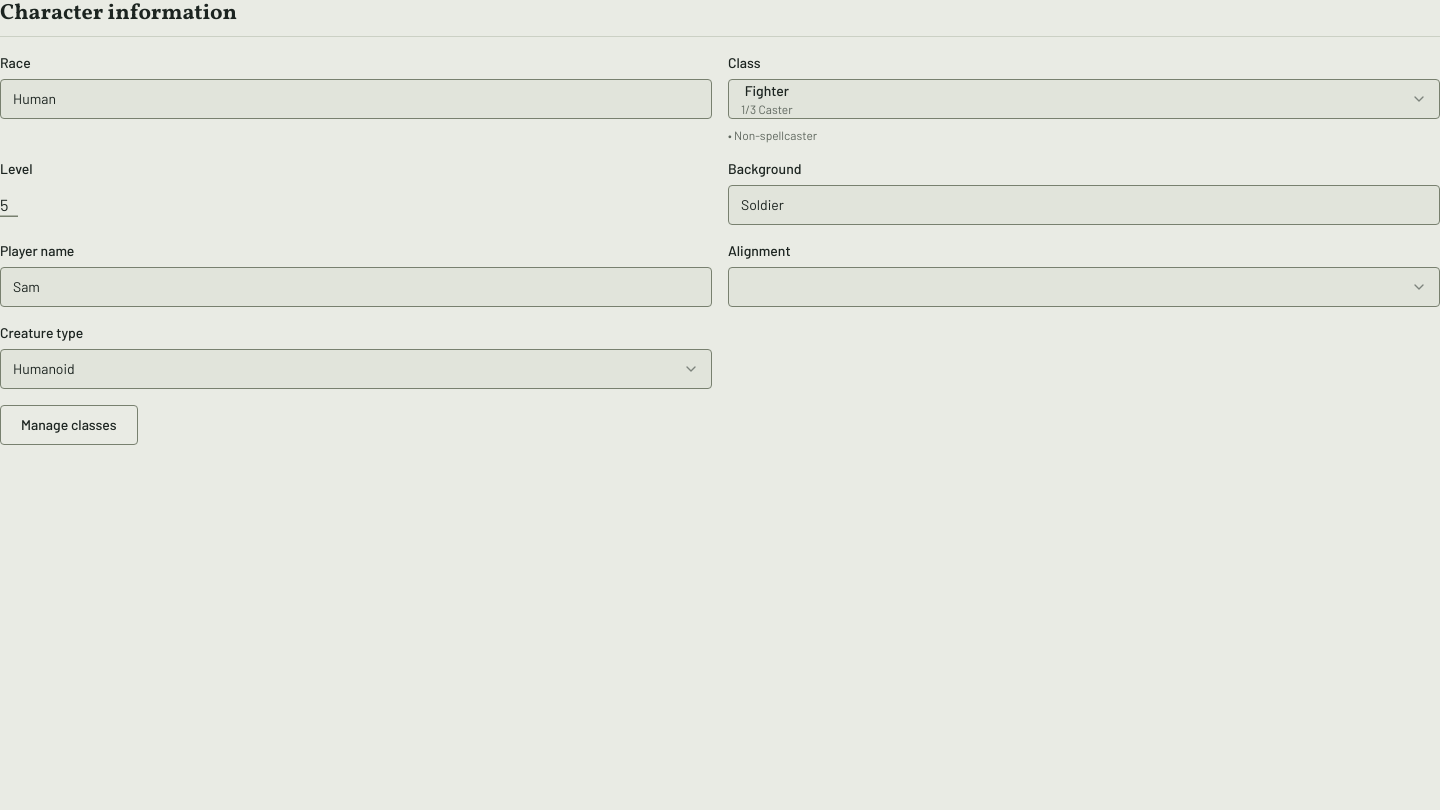
commits level once and opens Manage classes as a dialog
The image size is (1440, 810).
Step 1. Replace the text in the field named "Level" with "1" → [9, 204], box [0,192,18,216]
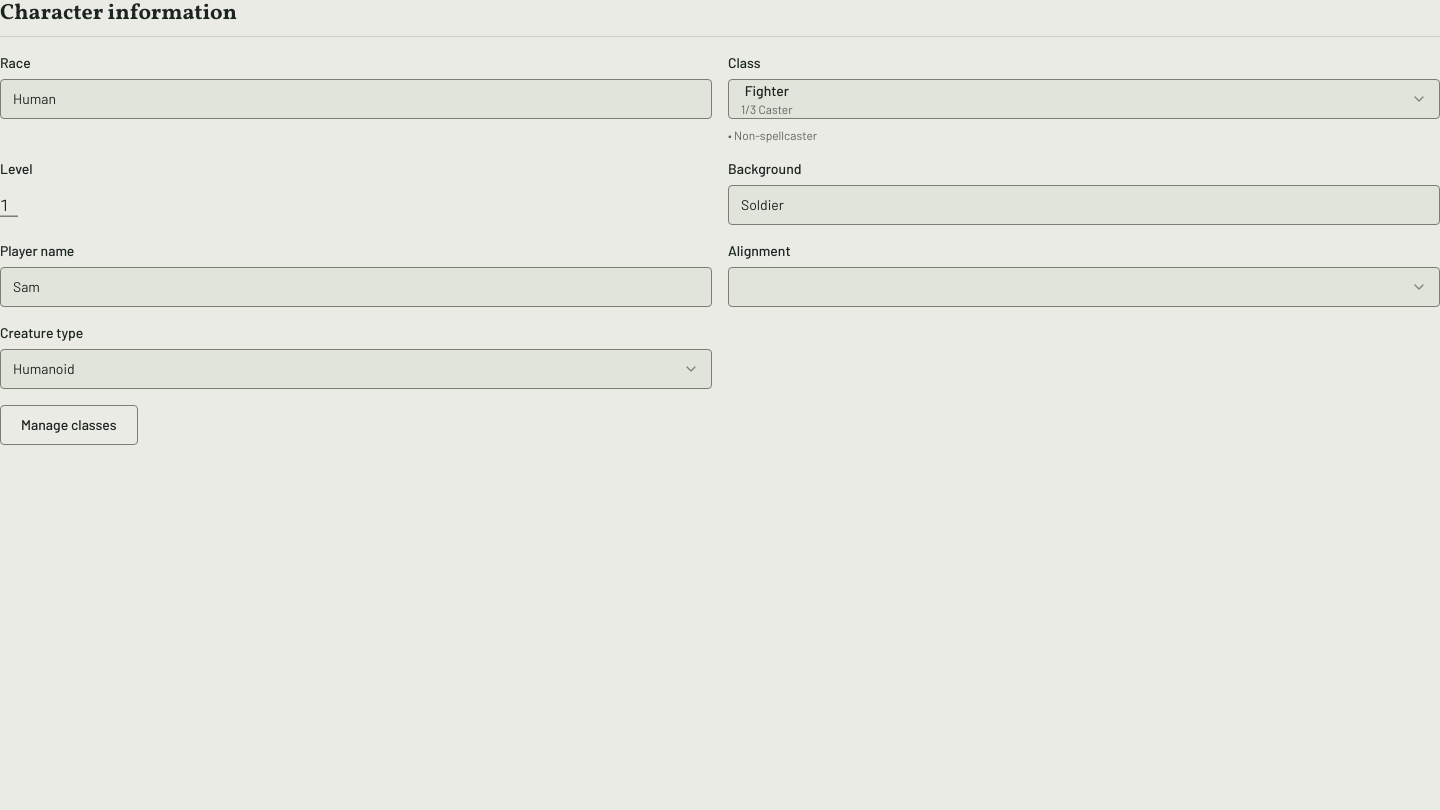
Step 2. Replace the text in the field named "Level" with "12" → [9, 204], box [0,192,18,216]
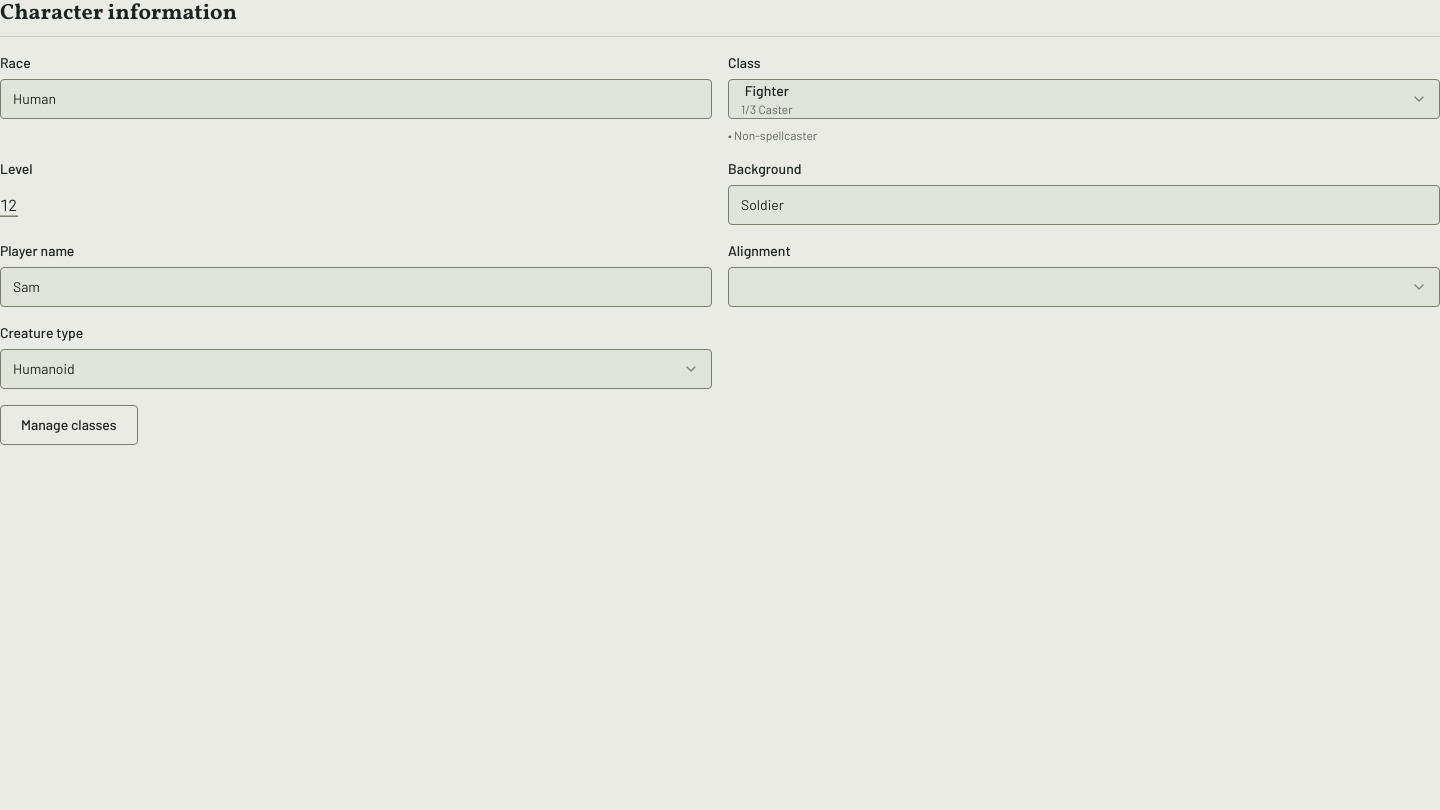
Step 3. Click the button "Manage classes" → [69, 424], box [0,404,138,444]
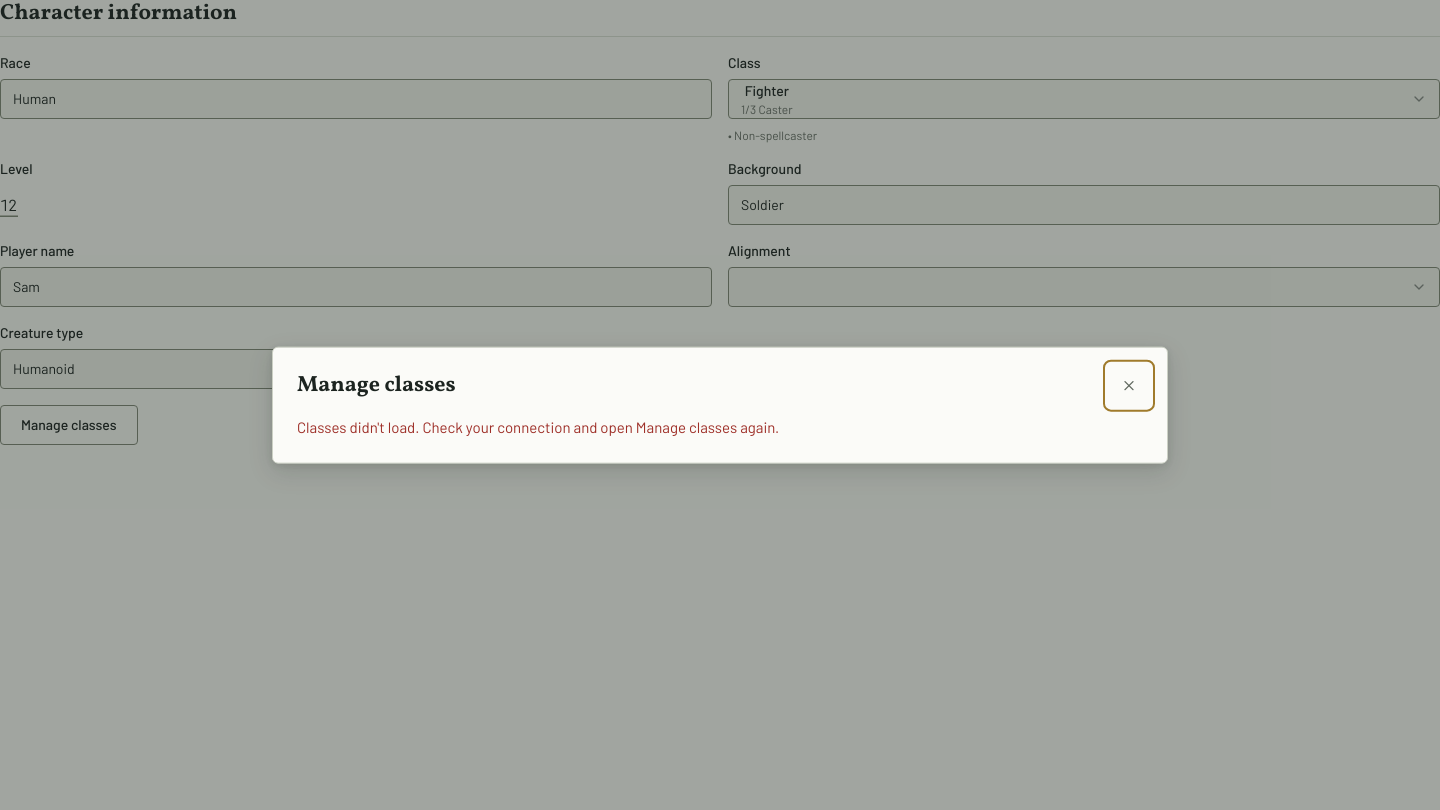
Check: the dialog "Manage classes" is shown, box [272,347,1168,463]
